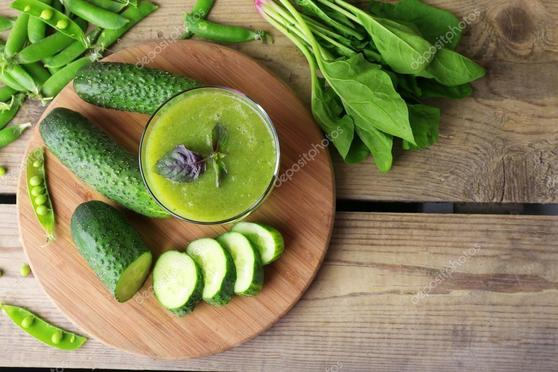cucumber: (33, 99, 178, 225), (72, 52, 208, 109)
